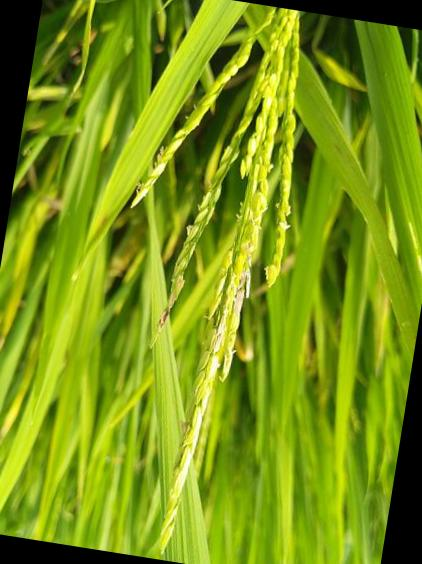Panicle Blight: (233, 269, 250, 315), (156, 298, 177, 332)
